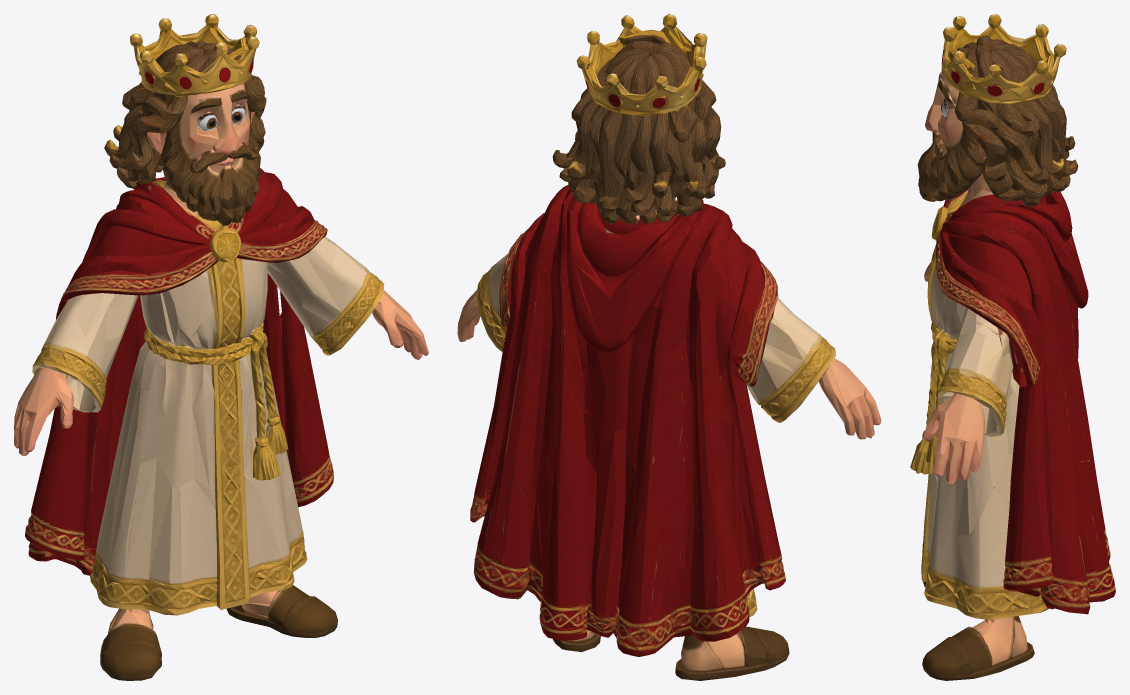
Rendered from wiseman_crown.fbx.
3 renders of one model, left to right at view 1: azimuth 30°, elevation 25°; view 2: azimuth 150°, elevation 25°; view 3: azimuth 270°, elevation 25°, orthographic. The views are drawn at different scales.
Visible parts, largest first — view 1: wiseman_crown; view 2: wiseman_crown; view 3: wiseman_crown.
Part boxes in pixels (left/top/right/bottom): wiseman_crown: left=14, top=14, right=428, bottom=680; wiseman_crown: left=457, top=14, right=881, bottom=680; wiseman_crown: left=910, top=14, right=1115, bottom=680.
Size of the model in its own units: 1.29 by 1.85 by 0.5759.
Materials: 1 (1 with a texture image).
